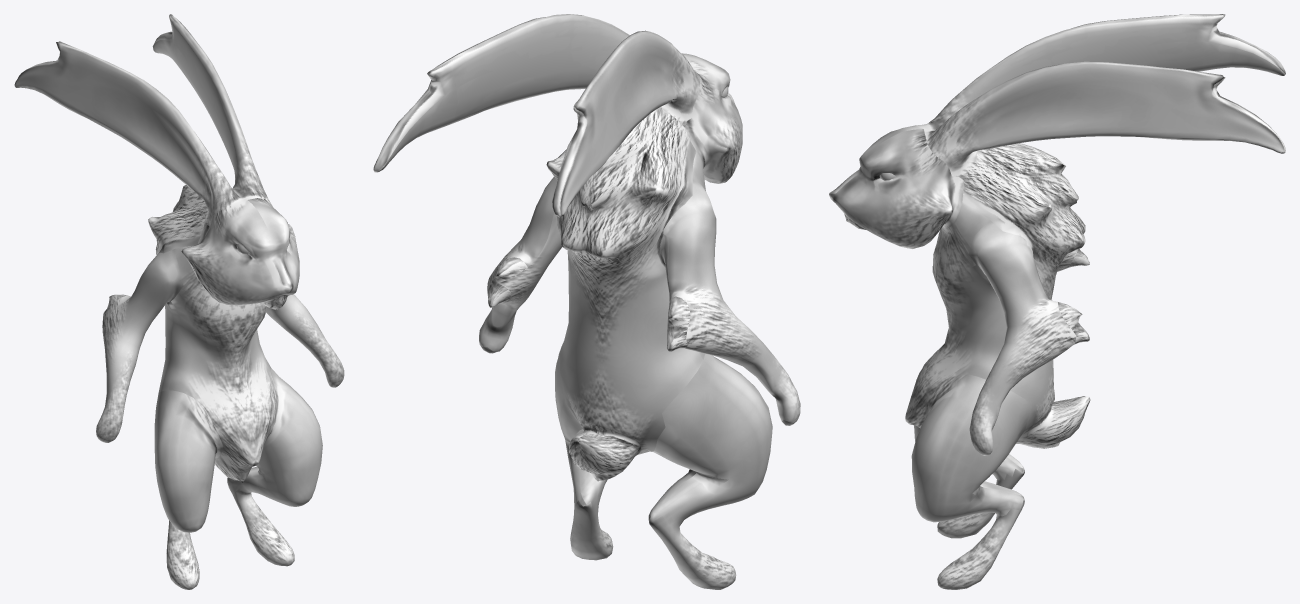
File: Experimental_Bunny_BigEars.fbx
3 views of the same model, side by side, from view 1: azimuth 30°, elevation 25°; view 2: azimuth 150°, elevation 25°; view 3: azimuth 270°, elevation 25° (orthographic). The views are drawn at different scales.
Visible parts, largest first — view 1: bunny_LOW:bunny_LOW:Group1; view 2: bunny_LOW:bunny_LOW:Group1; view 3: bunny_LOW:bunny_LOW:Group1.
Boxes of the visible parts, bbox=[...] form: bunny_LOW:bunny_LOW:Group1: bbox=[14, 14, 344, 589]; bunny_LOW:bunny_LOW:Group1: bbox=[373, 14, 800, 589]; bunny_LOW:bunny_LOW:Group1: bbox=[829, 14, 1285, 589].
Bounding box in the file's own units: 3.68 × 6.58 × 5.25.
Materials: 1 (1 with a texture image).
